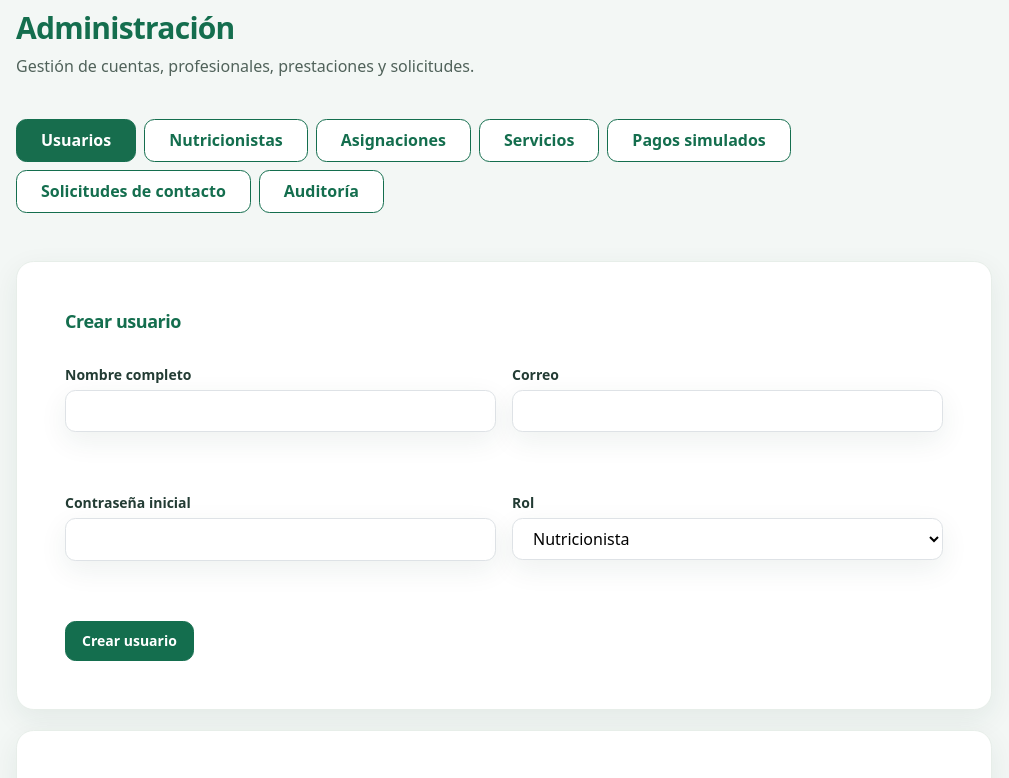
Administración › muestra la bitácora de auditoría
Click the tab "Auditoría".
click(321, 191)  # box [259, 170, 384, 213]
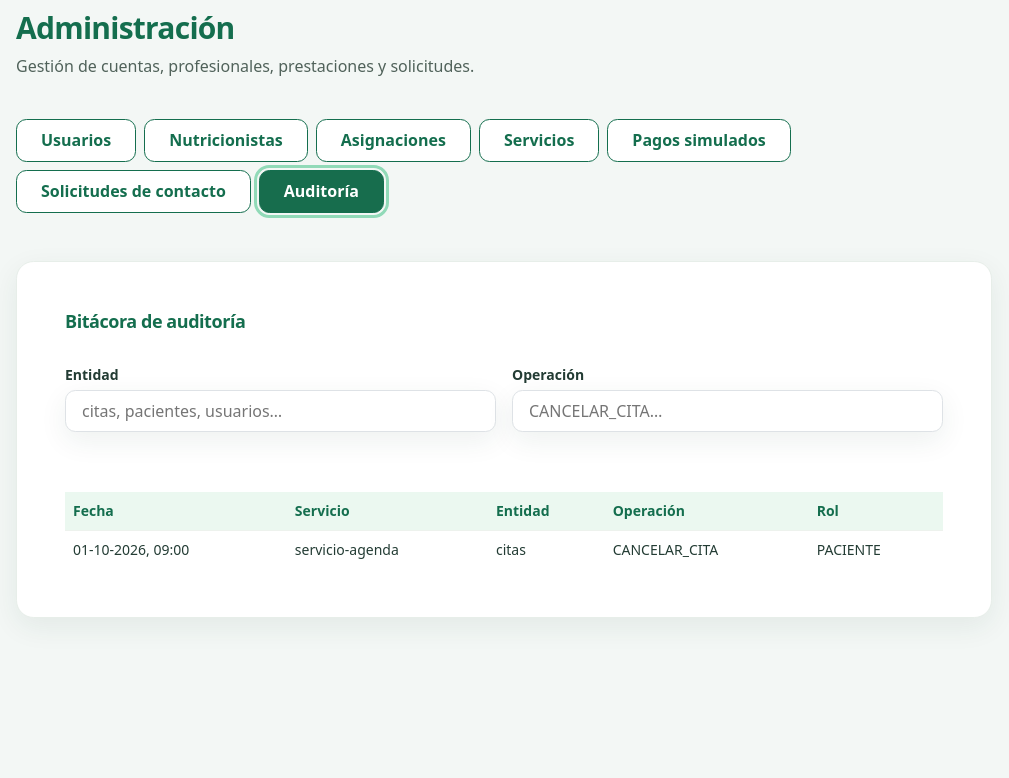
expect the text "CANCELAR_CITA" is shown: met, box [605, 531, 809, 569]
